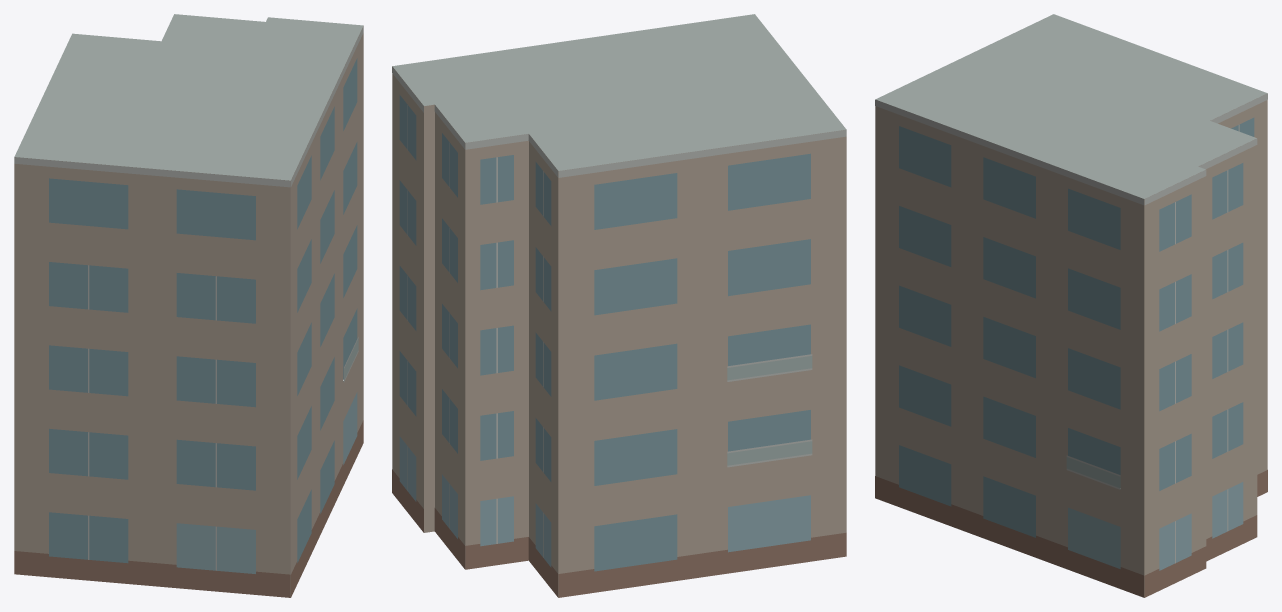
The model's file is survey-upis-32617005.glb.
The picture shows the model from 3 angles, left to right: view 1: azimuth 30°, elevation 25°; view 2: azimuth 150°, elevation 25°; view 3: azimuth 270°, elevation 25°; orthographic projection. The views are drawn at different scales.
Visible parts, largest first — view 1: survey-upis-32617005.tmp; view 2: survey-upis-32617005.tmp; view 3: survey-upis-32617005.tmp.
Part boxes in pixels (x1=…): survey-upis-32617005.tmp: x1=14, y1=14, x2=363, y2=597; survey-upis-32617005.tmp: x1=392, y1=14, x2=846, y2=597; survey-upis-32617005.tmp: x1=875, y1=14, x2=1267, y2=597.
Size of the model in its own units: 14.93 by 15 by 13.39.
